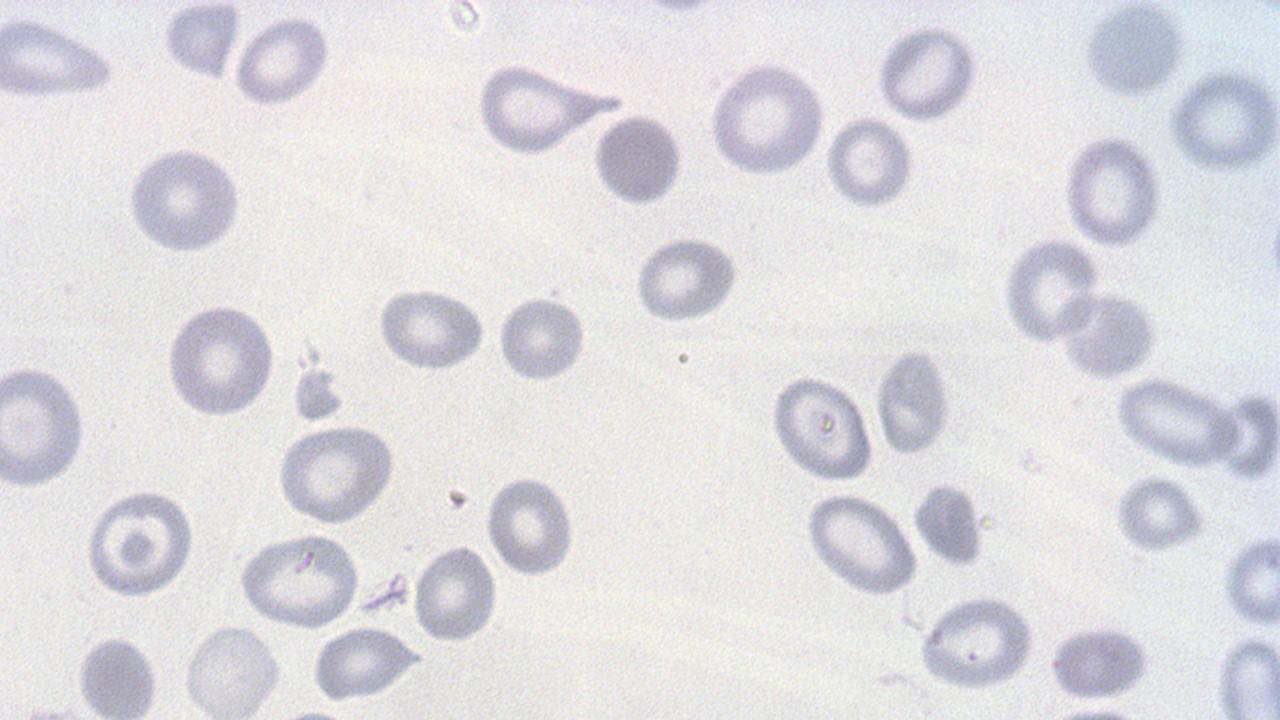Platelets: (484, 475, 582, 580), (1044, 618, 1158, 702), (588, 111, 684, 208), (874, 346, 955, 456), (1109, 472, 1211, 553), (913, 479, 987, 570), (158, 4, 241, 82), (1216, 387, 1280, 480), (1223, 530, 1280, 628), (290, 366, 345, 426), (354, 574, 410, 616), (642, 0, 715, 18)
RBC: (1, 340, 214, 720), (706, 57, 830, 178), (162, 298, 279, 422), (123, 142, 246, 258), (82, 484, 199, 599), (274, 422, 400, 526), (1058, 130, 1168, 249), (236, 528, 363, 630), (800, 490, 922, 596), (766, 370, 876, 484), (872, 19, 988, 126), (0, 360, 92, 493), (1111, 374, 1241, 468), (1168, 66, 1280, 175), (916, 592, 1037, 692), (473, 62, 598, 157), (1080, 0, 1190, 104), (1001, 233, 1101, 347), (0, 13, 122, 100), (372, 284, 489, 374), (180, 618, 284, 718), (1056, 288, 1164, 384), (630, 234, 744, 324), (482, 472, 578, 578), (231, 12, 335, 109), (589, 108, 689, 208), (823, 112, 916, 213), (874, 344, 956, 458), (410, 543, 500, 644), (309, 624, 421, 702), (496, 290, 588, 384), (1109, 470, 1211, 554), (72, 630, 164, 716), (160, 0, 240, 82), (1214, 385, 1278, 483), (1211, 630, 1280, 716), (1222, 528, 1280, 630)
WBC: (680, 0, 1280, 720), (0, 0, 459, 720), (409, 0, 1178, 274), (277, 421, 400, 526), (1080, 1, 1190, 102), (4, 13, 124, 102), (1058, 288, 1166, 382), (157, 2, 243, 82)
